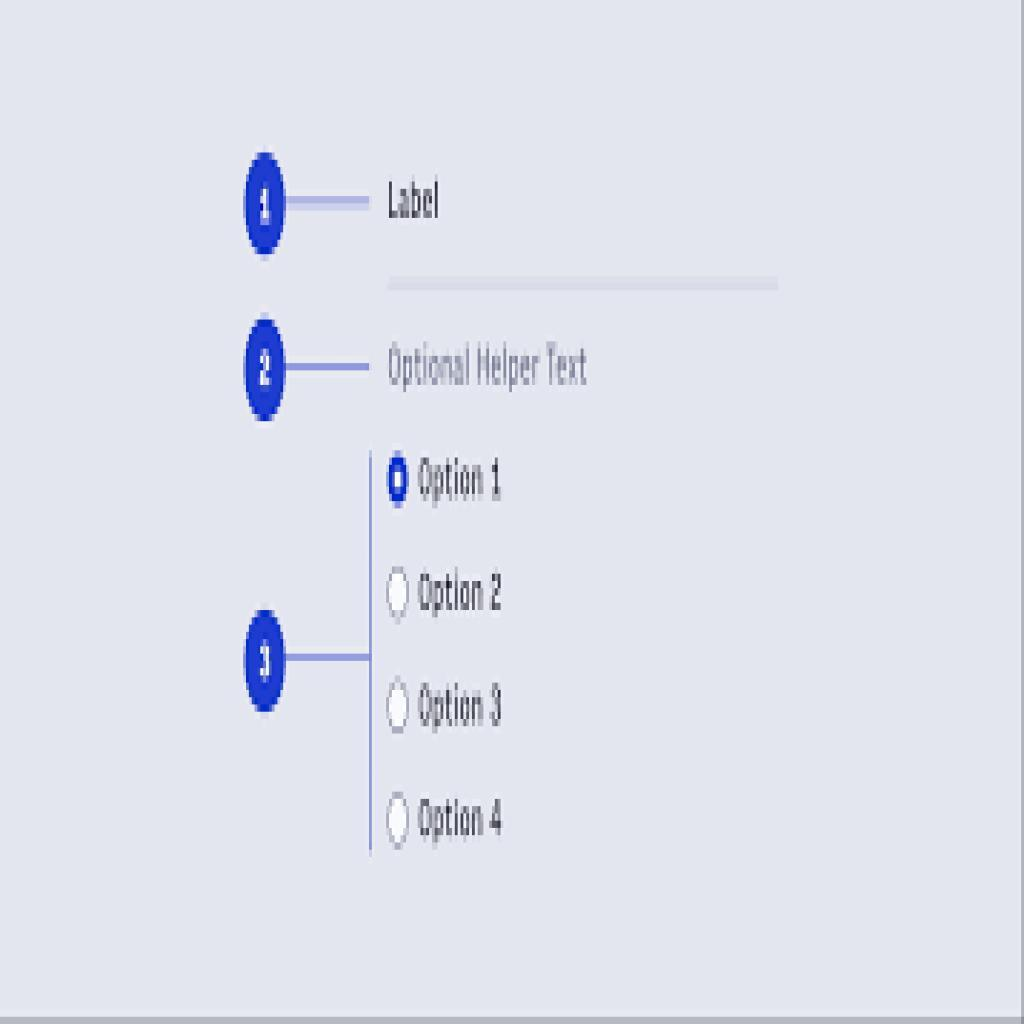radio: (383, 791, 415, 854), (385, 450, 415, 516), (383, 565, 415, 625), (387, 677, 411, 734)
